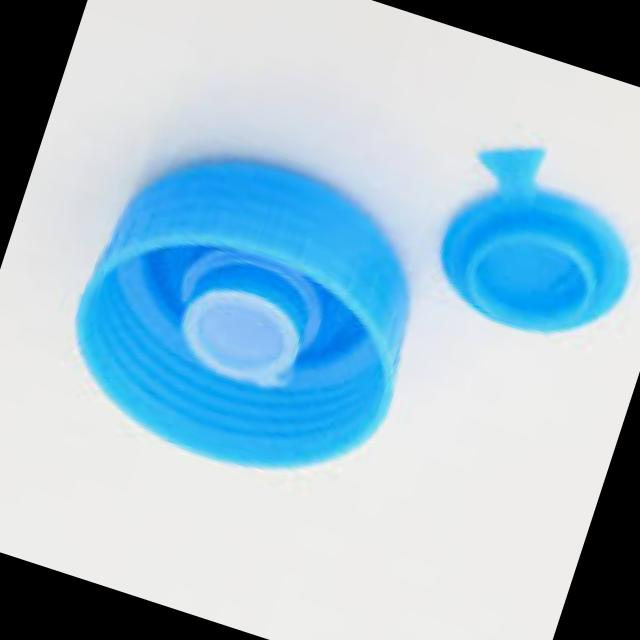TutupGalon: (41, 120, 450, 511)
